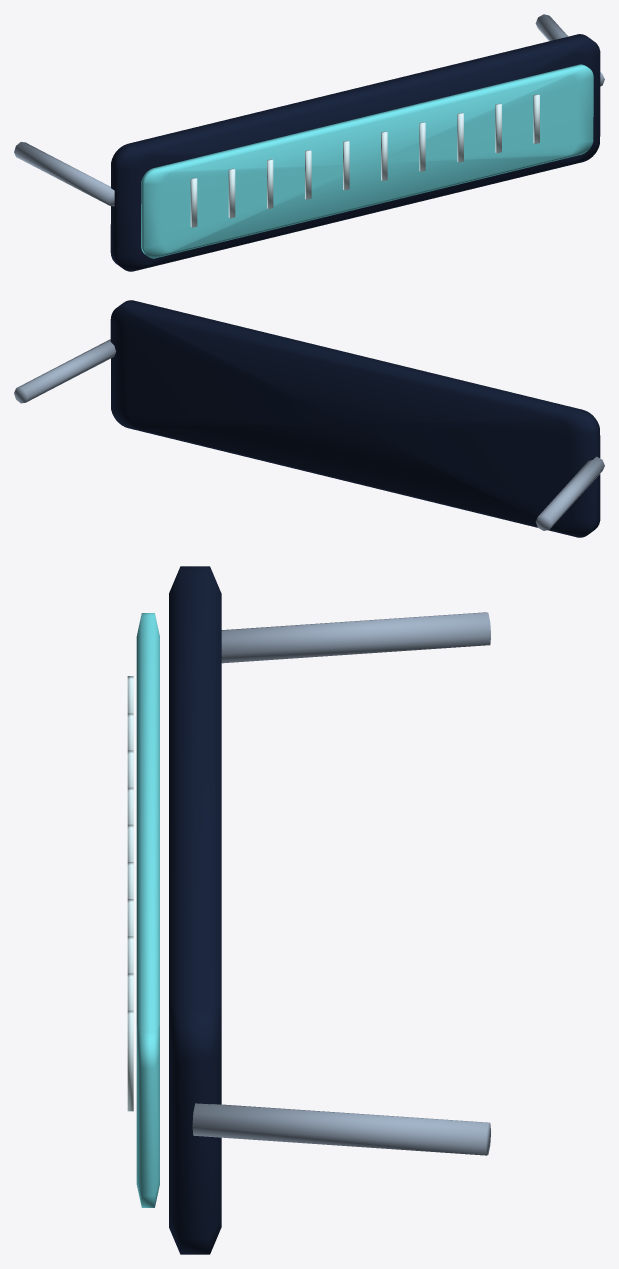
The model's file is nova_visor.glb.
3 renders of one model, top to bottom at view 1: azimuth 30°, elevation 25°; view 2: azimuth 150°, elevation 25°; view 3: azimuth 270°, elevation 25°, orthographic. The views are drawn at different scales.
Parts seen in each view (by area): view 1: nova_visor_gem, nova_visor_dark, nova_visor_light, nova_visor_metal; view 2: nova_visor_dark, nova_visor_metal; view 3: nova_visor_dark, nova_visor_metal, nova_visor_gem, nova_visor_light.
Boxes of the visible parts, left/top/right/bottom form: nova_visor_gem: left=141, top=64, right=593, bottom=258; nova_visor_dark: left=110, top=34, right=600, bottom=271; nova_visor_light: left=190, top=94, right=539, bottom=227; nova_visor_metal: left=14, top=14, right=604, bottom=206; nova_visor_dark: left=110, top=300, right=600, bottom=537; nova_visor_metal: left=14, top=339, right=604, bottom=530; nova_visor_dark: left=169, top=566, right=221, bottom=1254; nova_visor_metal: left=192, top=612, right=490, bottom=1155; nova_visor_gem: left=136, top=613, right=159, bottom=1207; nova_visor_light: left=127, top=676, right=133, bottom=1111.
Bounding box in the file's own units: 0.2119 × 0.046 × 0.062.
